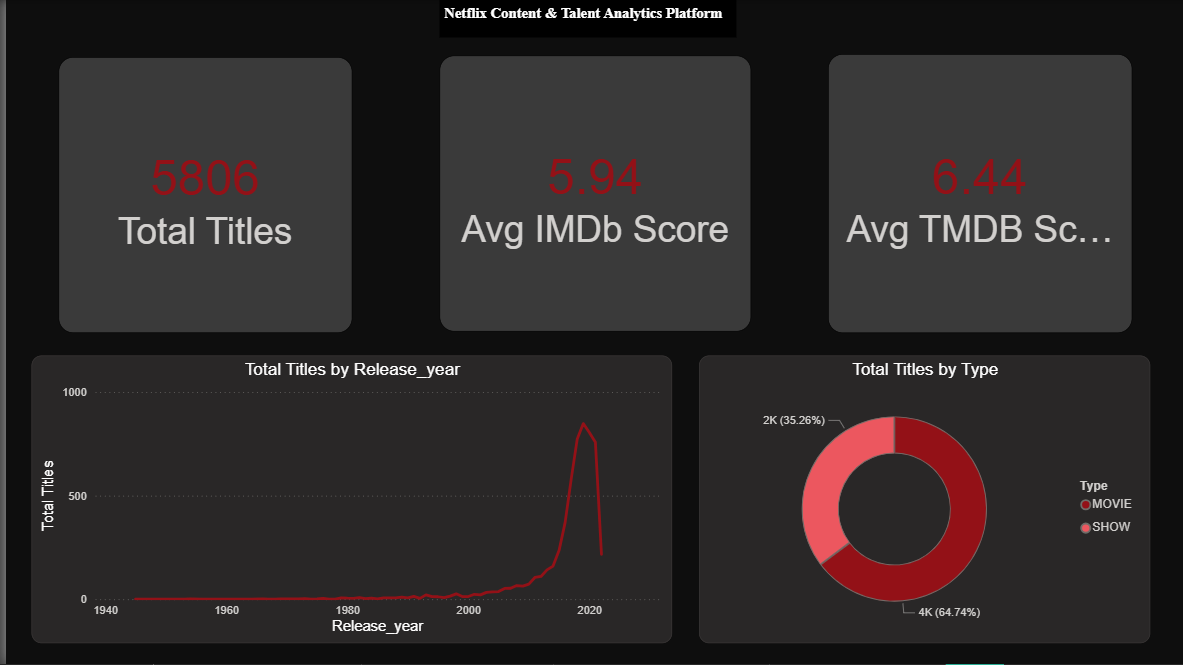

The page's visual inventory and layout, read from the dashboard file:
{"tool":"powerbi","page":{"name":"Content Overview","canvas":[1280,720],"ordinal":0},"visuals":[{"type":"card","fields":{"Values":["Titles_Dim.Total Titles"]},"box":[56.9,61.8,318.8,299.3],"z":0},{"type":"card","fields":{"Values":["Titles_Dim.Avg IMDb Score"]},"box":[470.1,60.2,338.3,299.3],"z":1},{"type":"card","fields":{"Values":["Titles_Dim.Avg TMDB Score"]},"box":[891.3,58.6,330.2,302.5],"z":2},{"type":"donutChart","fields":{"Category":["Titles_Dim.type"],"Y":["Titles_Dim.Total Titles"]},"box":[751.5,385.5,489.6,312.3],"z":3},{"type":"lineChart","fields":{"Category":["Titles_Dim.release_year"],"Y":["Titles_Dim.Total Titles"]},"box":[27.7,385.5,694.5,312.3],"z":4},{"type":"textbox","box":[470.1,0,322.1,40.7],"z":5}]}

Visuals, with their boxes in screenshot pixels (x1, y1, x2, y2), scaled from the page's 1280x720 canvas onto the 1183x665 screenshot:
card - Titles_Dim.Total Titles: rect(53, 57, 347, 334)
card - Titles_Dim.Avg IMDb Score: rect(434, 56, 747, 332)
card - Titles_Dim.Avg TMDB Score: rect(824, 54, 1129, 334)
donutChart - Titles_Dim.type x Titles_Dim.Total Titles: rect(695, 356, 1147, 644)
lineChart - Titles_Dim.release_year x Titles_Dim.Total Titles: rect(26, 356, 667, 644)
textbox: rect(434, 0, 732, 38)
